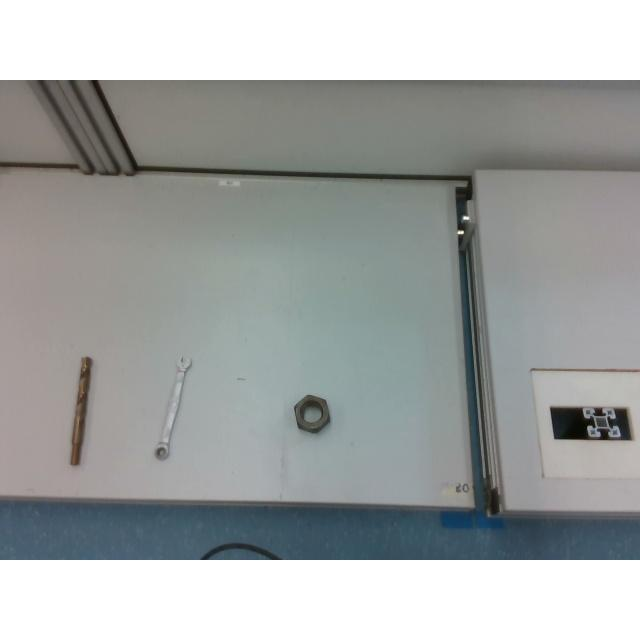Drill: (69, 357, 93, 467)
M30: (294, 394, 330, 430)
Wrench: (155, 356, 191, 458)
